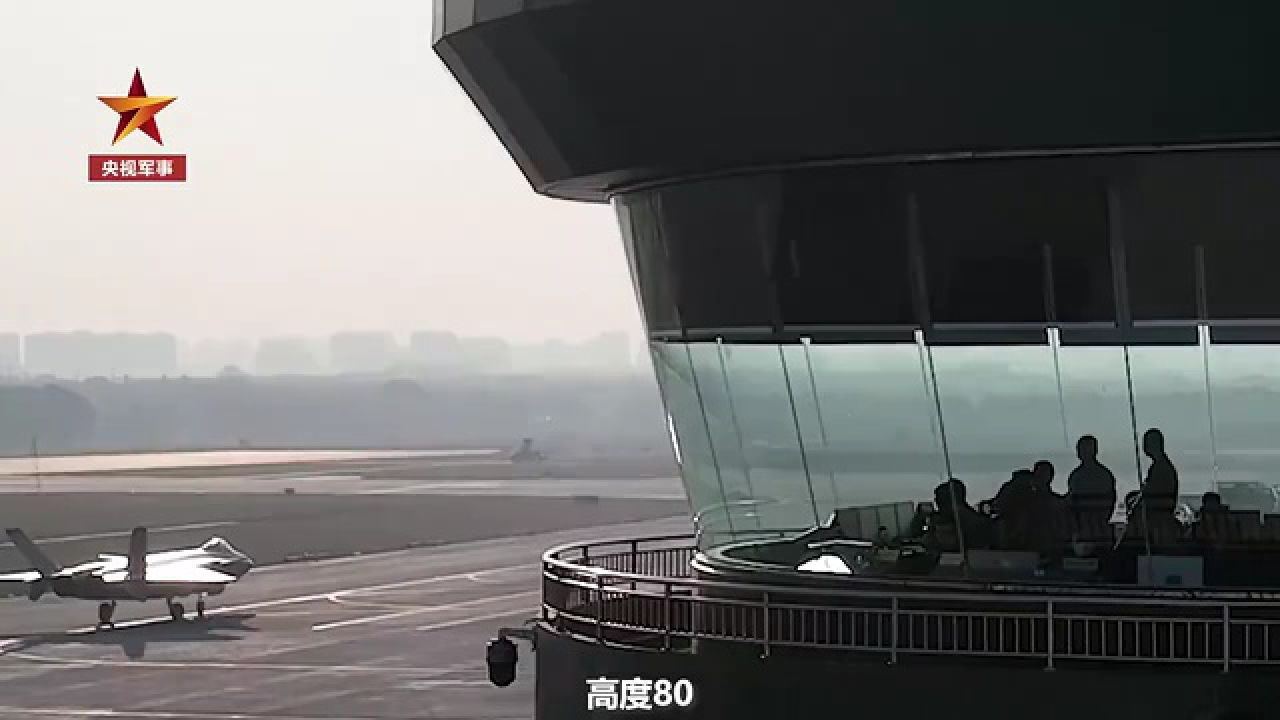J20: (1, 526, 256, 622)
